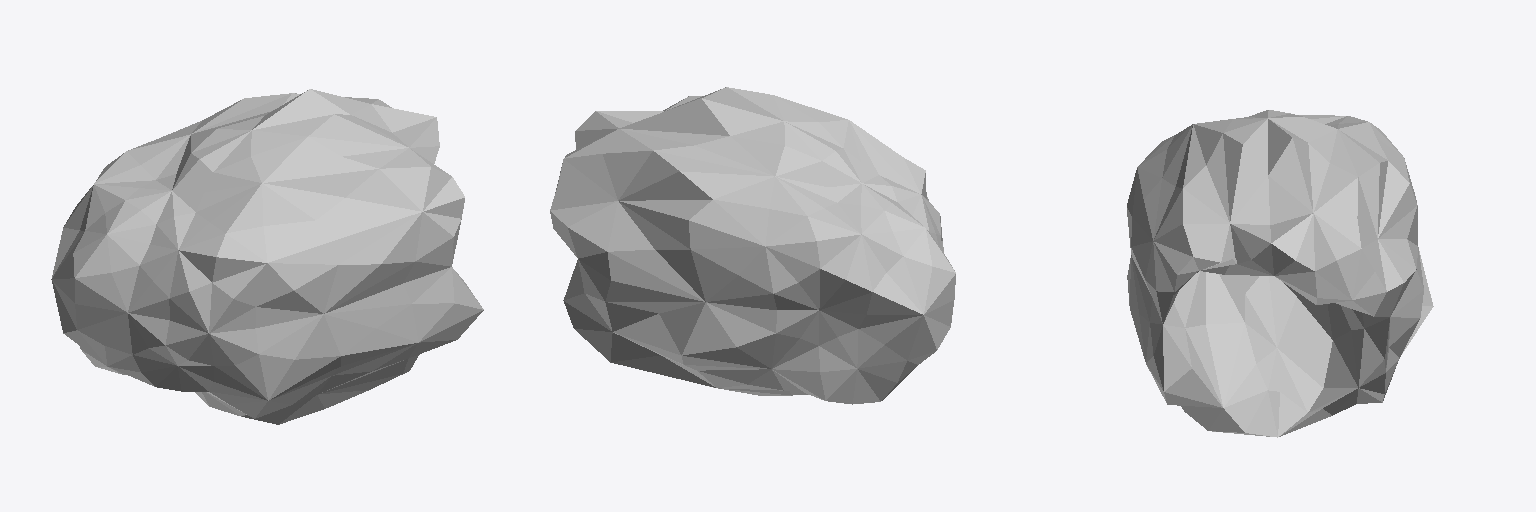
The model's file is cave.obj.
The picture shows the model from 3 angles: view 1: azimuth 30°, elevation 25°; view 2: azimuth 150°, elevation 25°; view 3: azimuth 270°, elevation 25°; orthographic projection.
Parts seen in each view (by area): view 1: Icosphere; view 2: Icosphere; view 3: Icosphere.
Boxes of the visible parts, box(x1,y1,x2,y2) form: Icosphere: box(51, 89, 483, 424); Icosphere: box(550, 87, 955, 404); Icosphere: box(1127, 110, 1433, 437).
Size of the model in its own units: 2.68 by 2.04 by 1.92.